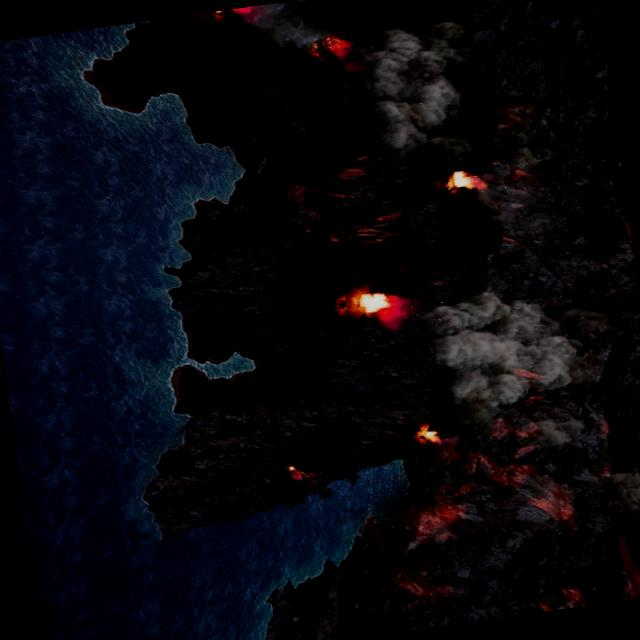fire: (352, 290, 398, 320), (443, 170, 480, 194), (322, 34, 353, 60), (207, 6, 257, 20), (414, 426, 440, 446), (284, 462, 306, 482)
smoke: (411, 272, 614, 426), (354, 17, 482, 163), (250, 0, 332, 58), (528, 413, 590, 453), (607, 467, 640, 511)
